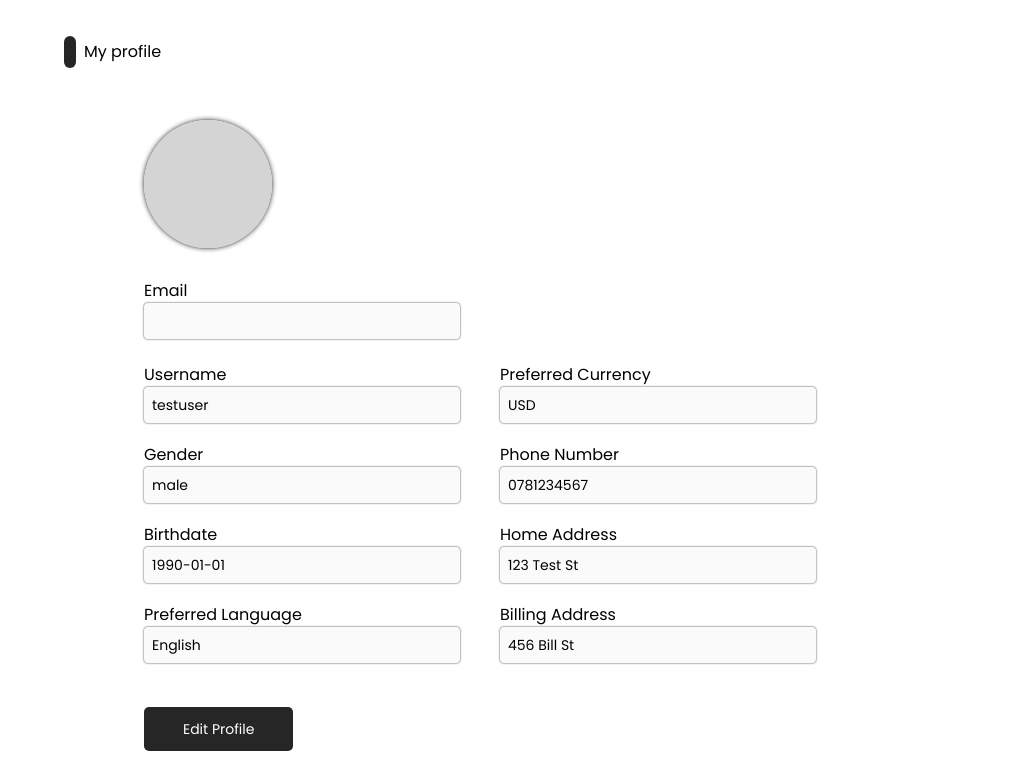
Test case: Profile Component › sets isEditing to true when Edit Profile button is clicked
The width and height of the screenshot is (1024, 768).
Expected: the field showing "testuser" below "Username" is disabled, [144,387,460,423]
Click the button "Edit Profile": (219, 729) [144,707,293,751]
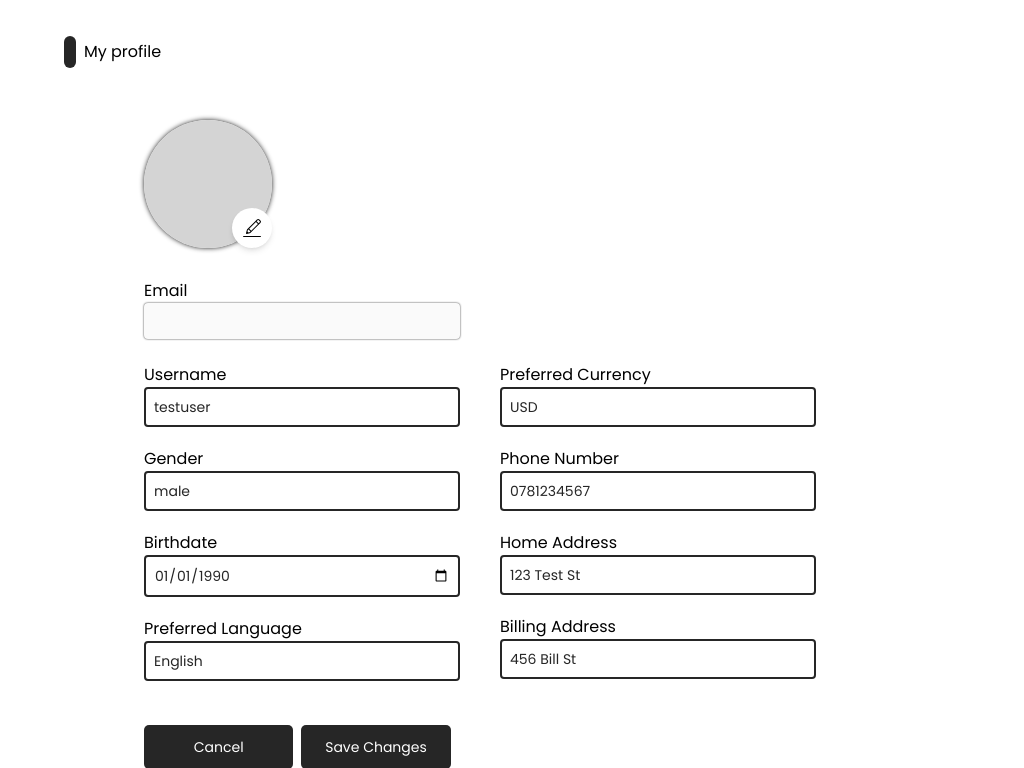
Expected: the field showing "testuser" below "Username" is enabled, [144,387,460,427]
